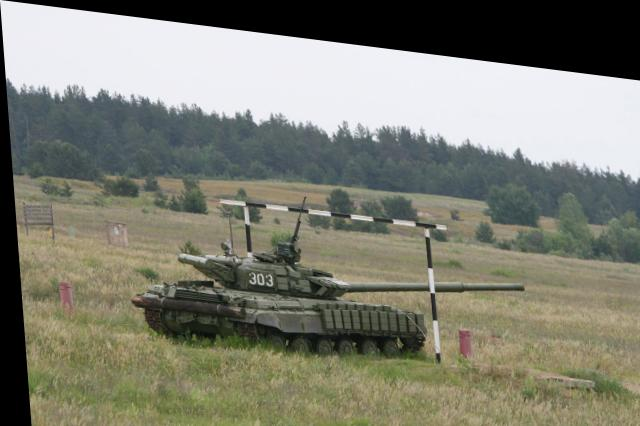tank: (130, 220, 425, 358)
